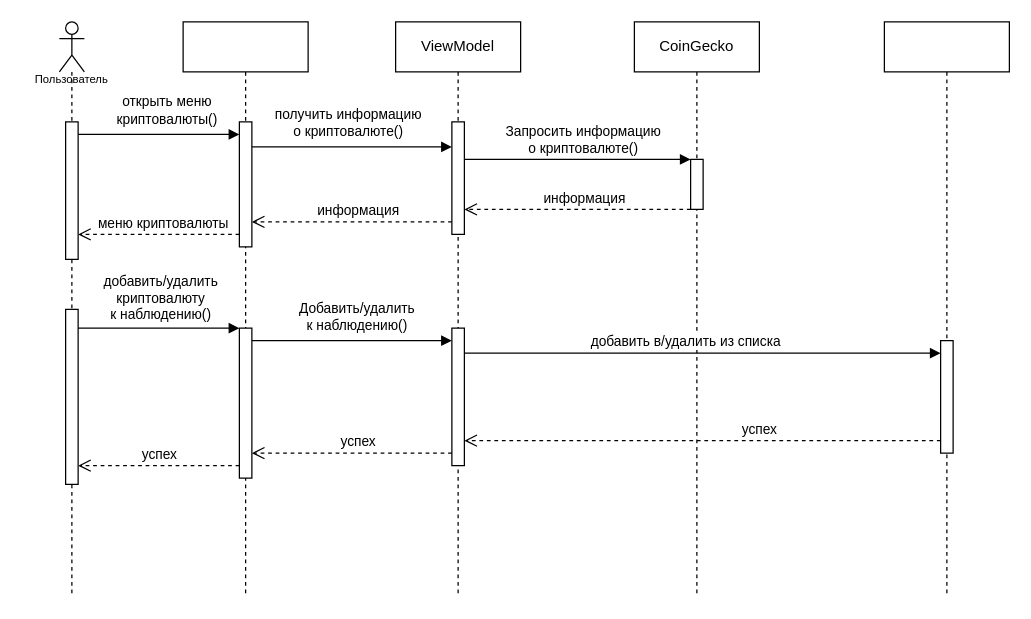
The diagram is 1031 pixels wide and 619 high, and some of its shapes have lost their labels. The centre of each missing label's shape, as x and y in pixels:
"Бэкенд" belongs at point (946, 309).
"Интерфейс" belongs at point (245, 309).
